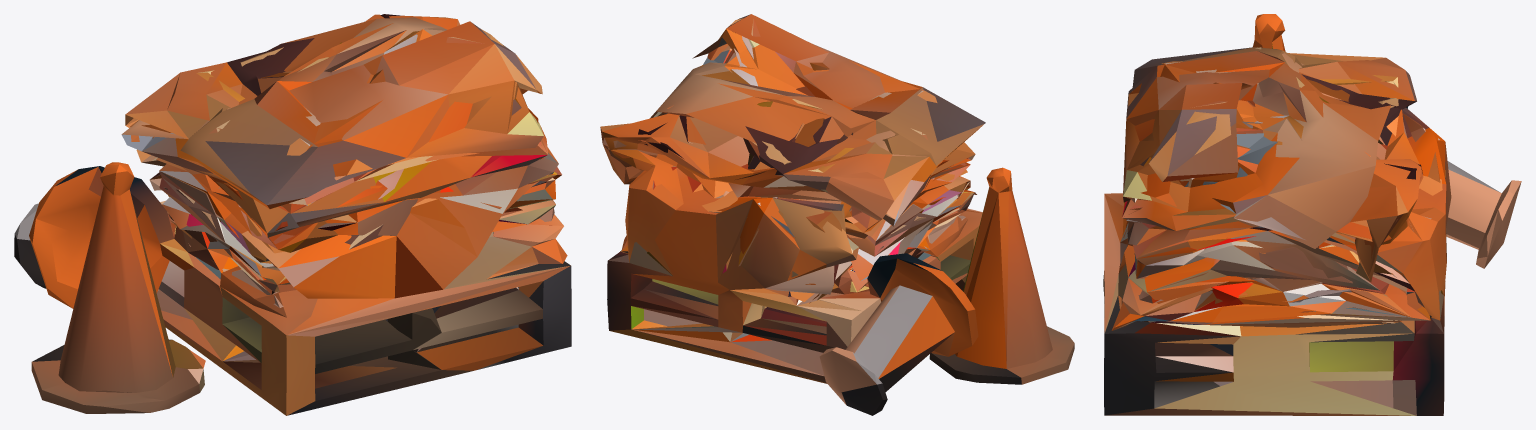
3 views of the same model, side by side, from view 1: azimuth 30°, elevation 25°; view 2: azimuth 150°, elevation 25°; view 3: azimuth 270°, elevation 25° (orthographic). The views are drawn at different scales.
Bounding box in the file's own units: 1.9 × 1.08 × 1.4.
Materials: 1 (1 with a texture image).
